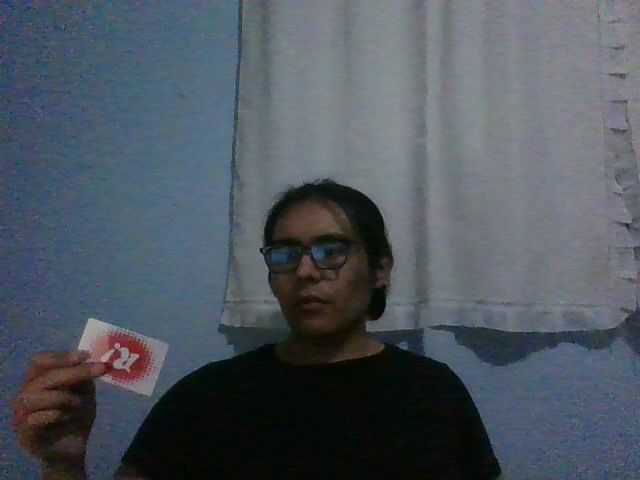tarjeta: (77, 318, 170, 398)
